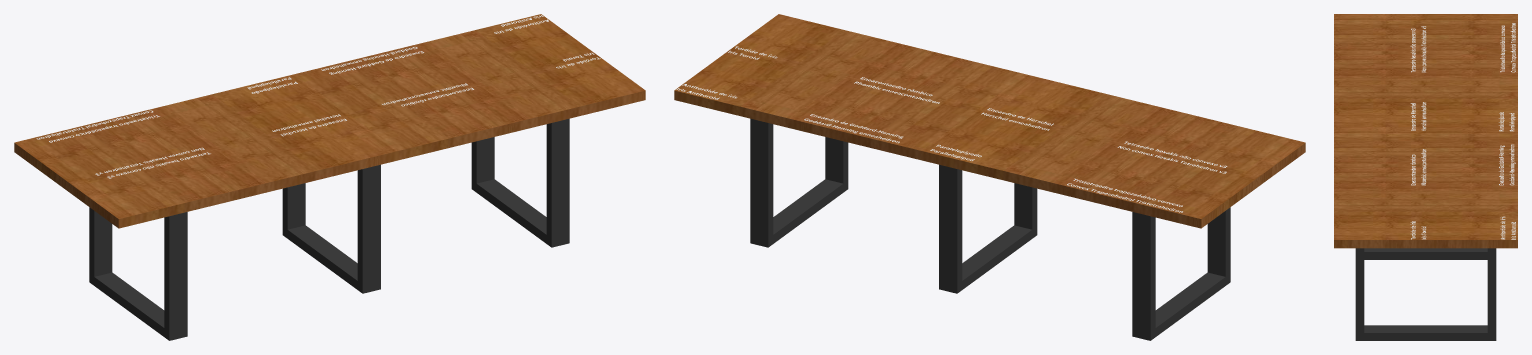
Rendered from mesa_Prisms3.glb.
3 renders of one model, left to right at view 1: azimuth 30°, elevation 25°; view 2: azimuth 150°, elevation 25°; view 3: azimuth 270°, elevation 25°, orthographic. The views are drawn at different scales.
Visible parts, largest first — view 1: object 4, Composant#1 (×3), Tristetraedro tr; view 2: object 4, Composant#1 (×3), Tristetraedro tr; view 3: object 4, Composant#1 (×2), Tristetraedro tr, Tetraedro hexaki, Eneaedro de Godd, Eneacontaedro rô, Eneaedro de Hers, Paralelepípedo P, Antitoróide de í.
Boxes of the visible parts, <box> form: object 4: <box>14,14,645,228</box>; Composant#1 (×3): <box>89,118,569,340</box>; Tristetraedro tr: <box>36,110,159,142</box>; object 4: <box>674,14,1305,228</box>; Composant#1 (×3): <box>750,118,1230,340</box>; Tristetraedro tr: <box>1067,178,1182,212</box>; object 4: <box>1334,14,1517,248</box>; Composant#1 (×2): <box>1355,248,1496,340</box>; Tristetraedro tr: <box>1500,23,1516,72</box>; Tetraedro hexaki: <box>1410,26,1426,72</box>; Eneaedro de Godd: <box>1499,144,1515,185</box>; Eneacontaedro rô: <box>1410,149,1426,185</box>; Eneaedro de Hers: <box>1410,102,1426,130</box>; Paralelepípedo P: <box>1499,112,1515,131</box>; Antitoróide de í: <box>1500,216,1515,239</box>.
Size of the model in its own units: 2.91 by 0.771 by 1.
3 materials, 1 textured.
